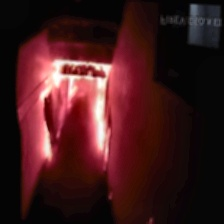fire: (39, 54, 128, 170)
